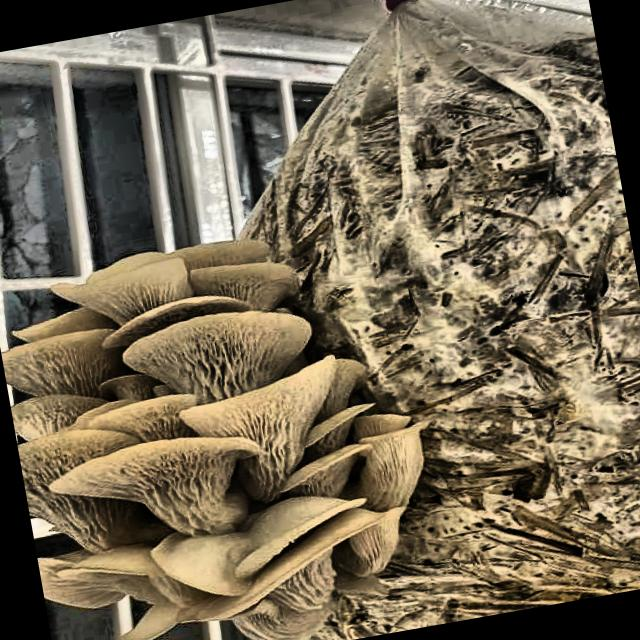Healthy: (0, 213, 465, 640)
